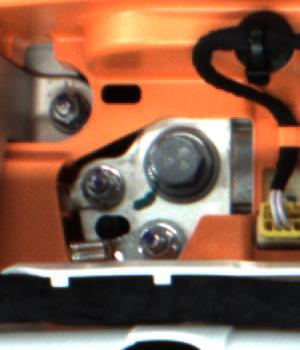nut_b: (141, 127, 218, 201)
screw_s: (135, 222, 177, 258), (48, 91, 81, 133), (79, 165, 110, 200)
